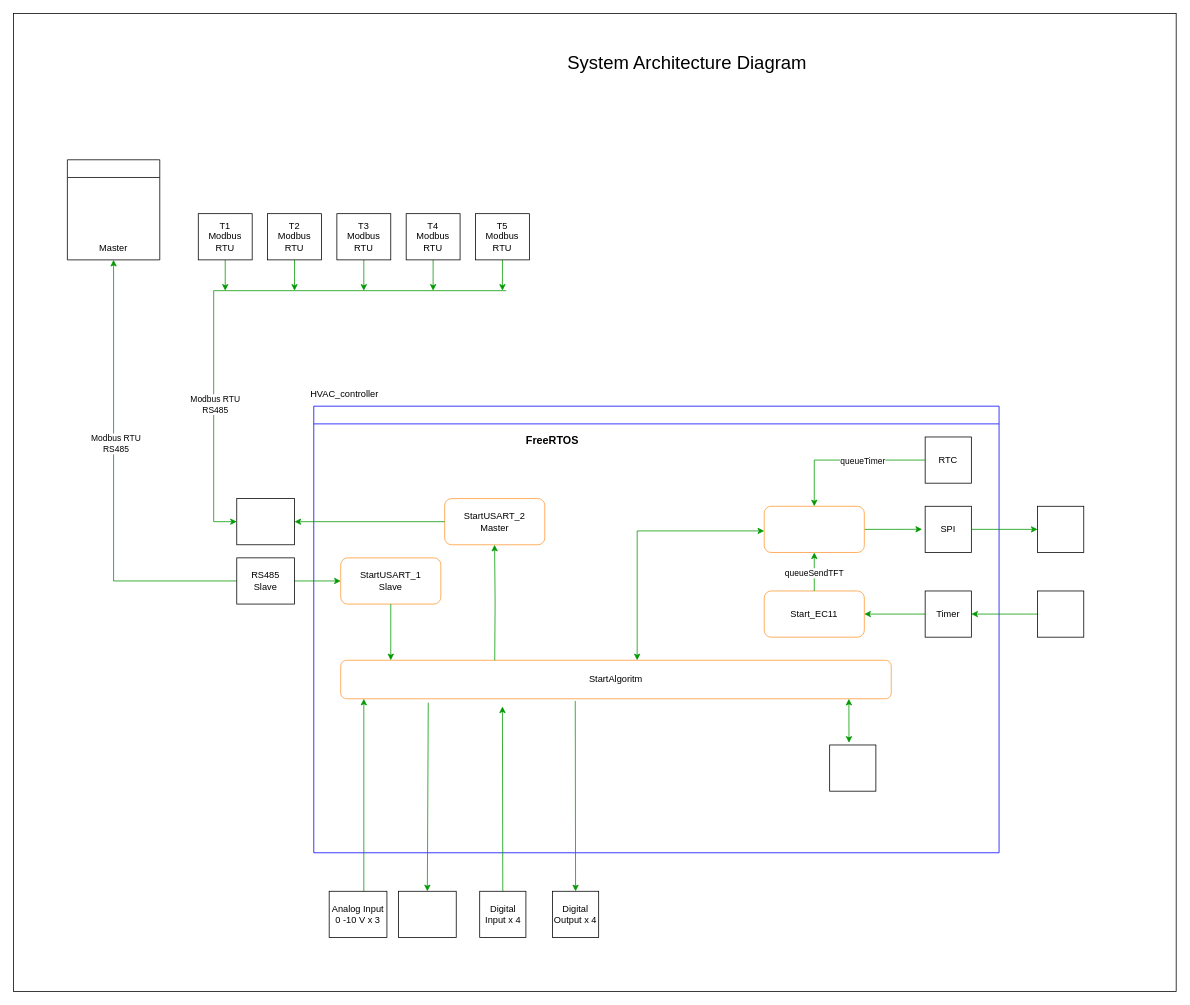
Some shapes in this 1190 by 1005 pixel diagram are drawn without their labels. The shapes that lost their labels are listed below. From the top down, each one's box as (x1, y1, x2, y2) in pixels, then its label:
(67, 159, 160, 260): Monitoring
(236, 498, 295, 545): RS485 Master
(763, 506, 864, 552): Start_ST7789_Task
(1037, 506, 1084, 552): TFT Display
(313, 405, 999, 853): STM32 Controller
(1037, 590, 1084, 637): Encoder
(829, 744, 876, 791): Flash
(398, 891, 456, 937): Analog Output 0 -10 V x 3
